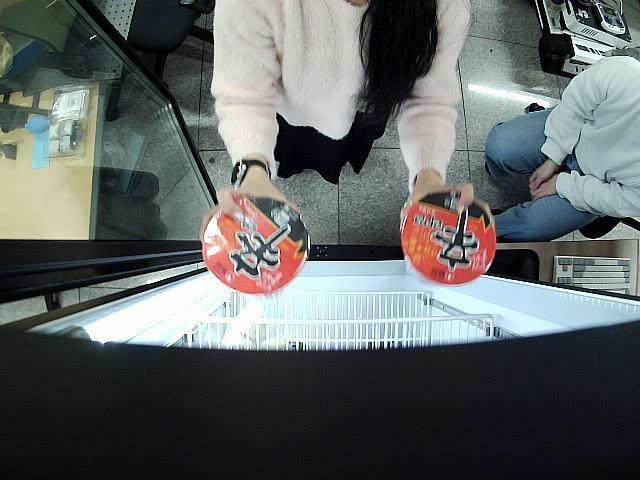01_ShinRamen_L: (202, 196, 311, 295), (401, 188, 496, 286)
